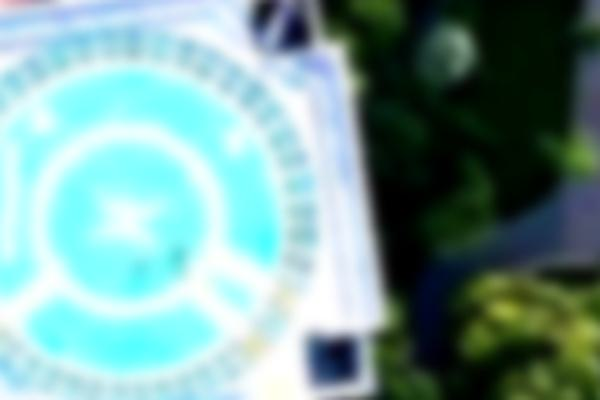Apron: (34, 119, 232, 319)
